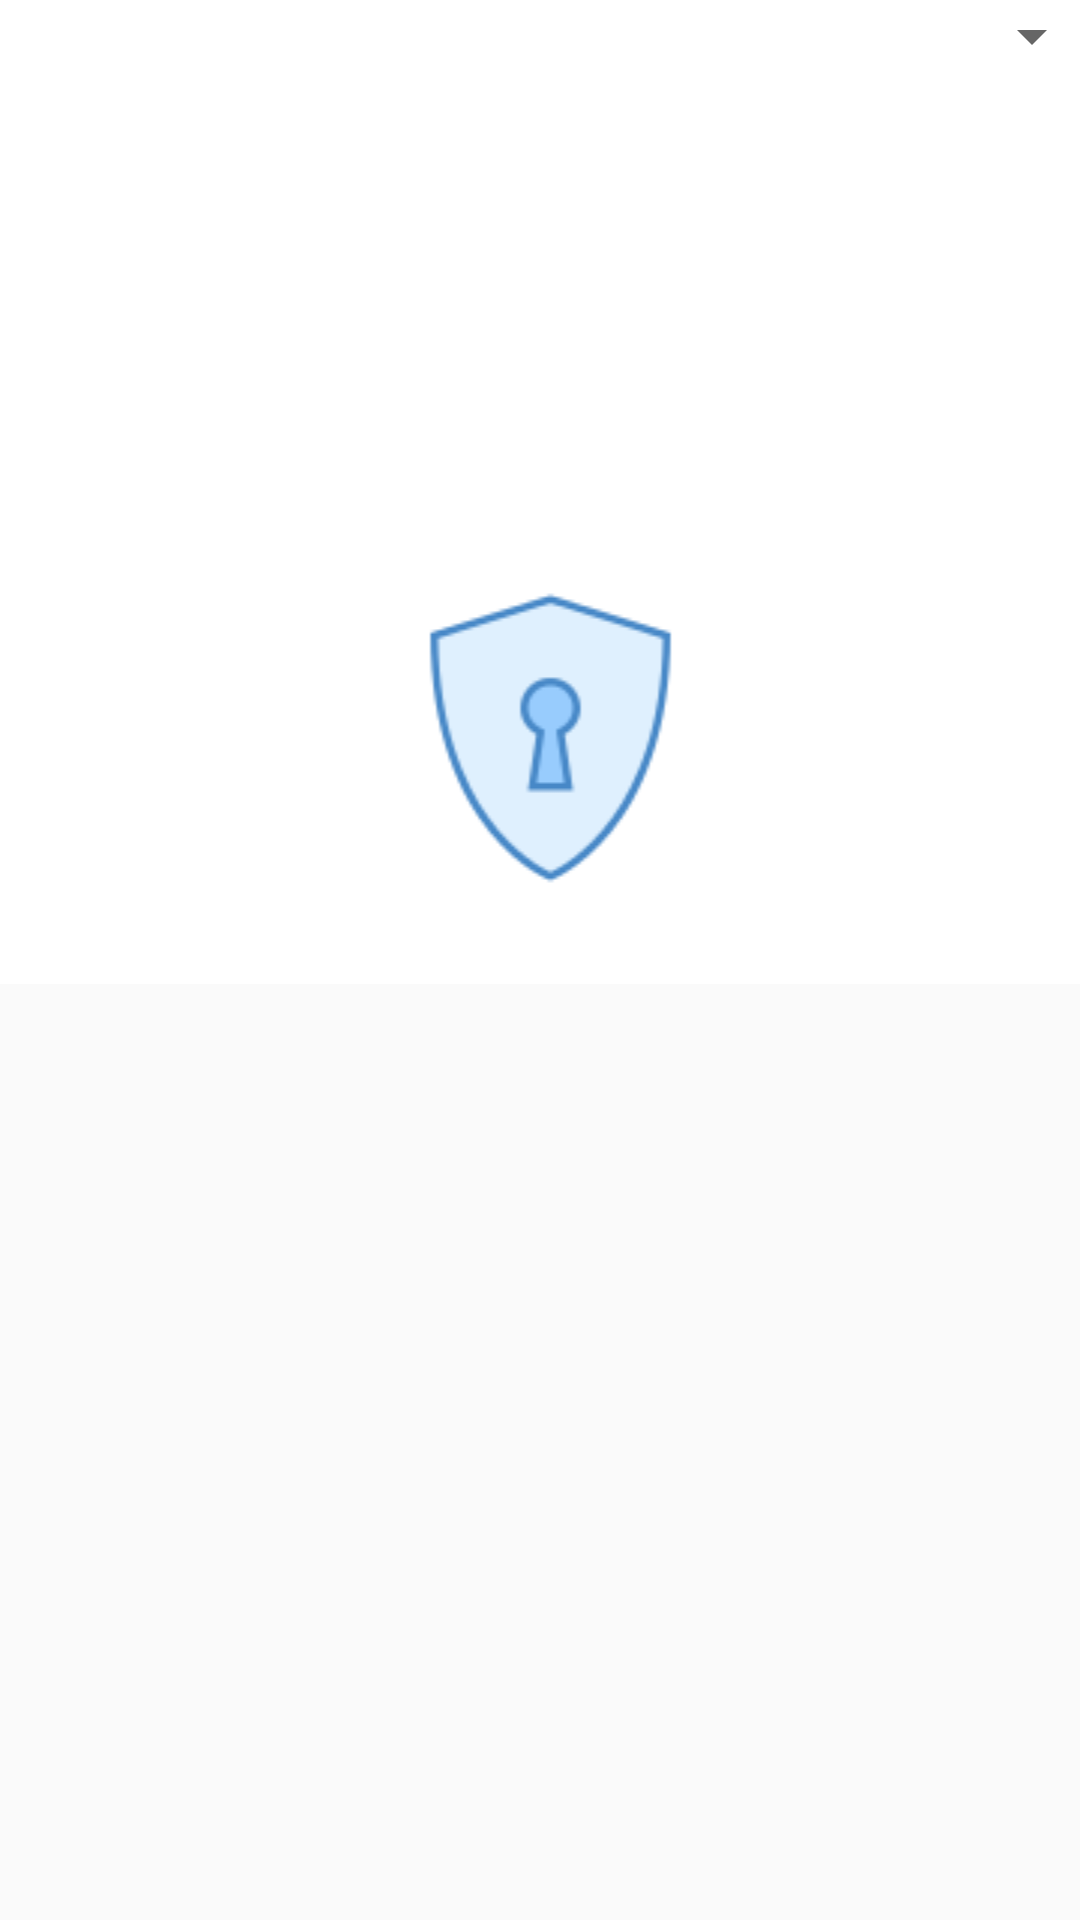

Icons on this 1080px×1920px Android screen, each with the point to tap as point (x, y):
lock: point (550, 738)
